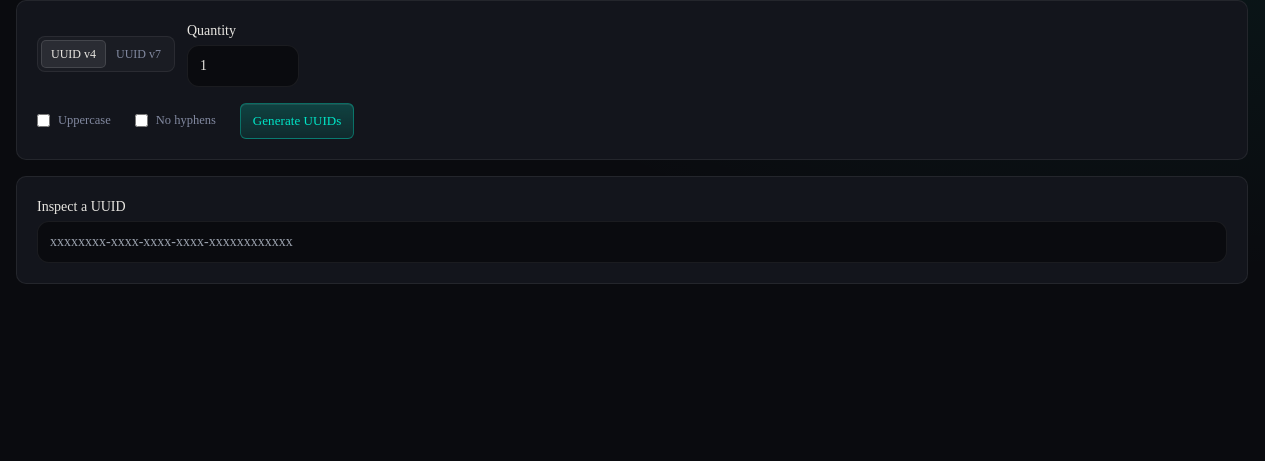
Test: UuidGeneratorClient › shows recognized variant names for standard and reserved UUIDs
Type "018bcfe5-6800-7000-8000-000000000000" into the field labelled "Inspect a UUID" at (632, 242), box [37,220,1227,262]
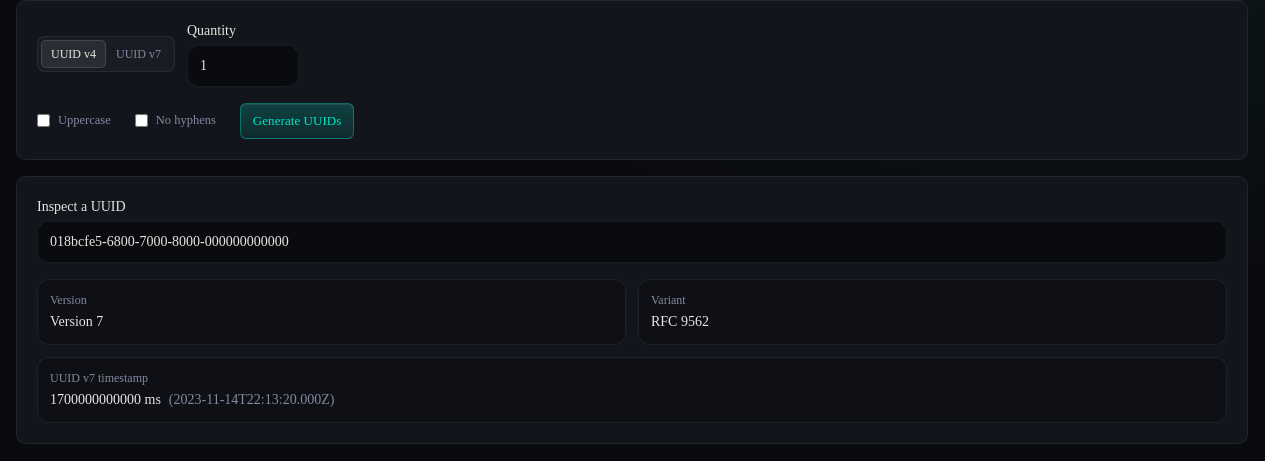
Check: the text "RFC 9562" is shown, box [651,314,709,328]
Replace the text in the field labelled "Inspect a UUID" with "00000000-0000-0000-0000-000000000000" at (632, 242), box [37,220,1227,262]
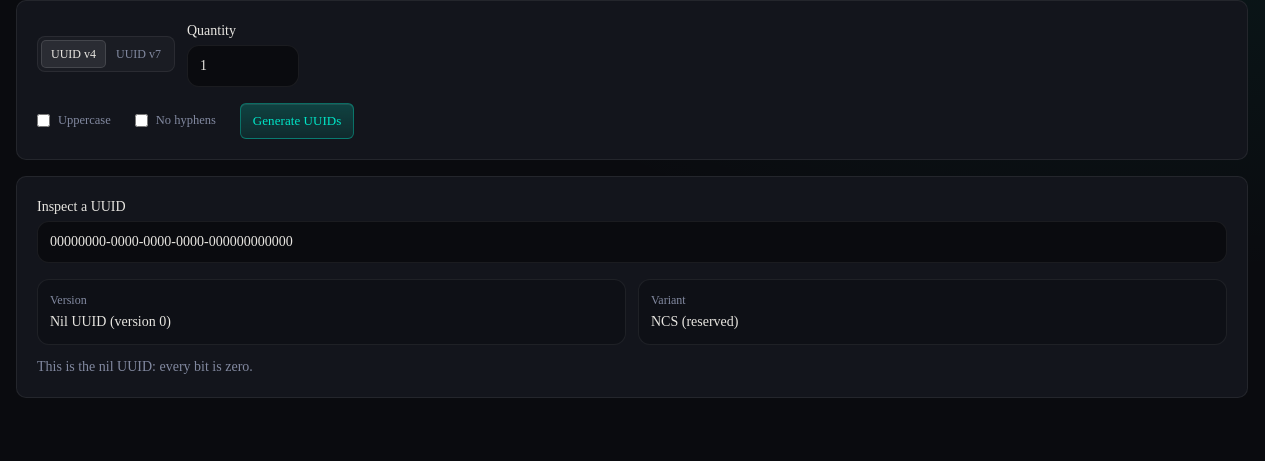
Check: the text "Nil UUID (version 0)" is shown, box [50,314,171,328]
Check: the text "NCS (reserved)" is shown, box [651,314,738,328]
Replace the text in the field labelled "Inspect a UUID" with "00000000-0000-4000-C000-000000000000" at (632, 242), box [37,220,1227,262]
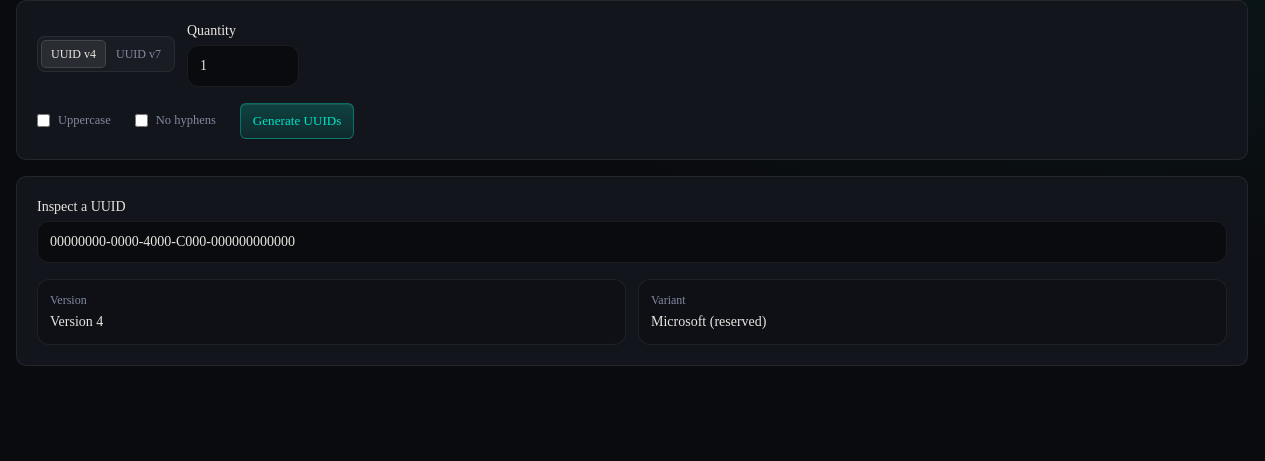
Check: the text "Microsoft (reserved)" is shown, box [651,314,766,328]
Replace the text in the field labelled "Inspect a UUID" with "00000000-0000-4000-E000-000000000000" at (632, 242), box [37,220,1227,262]
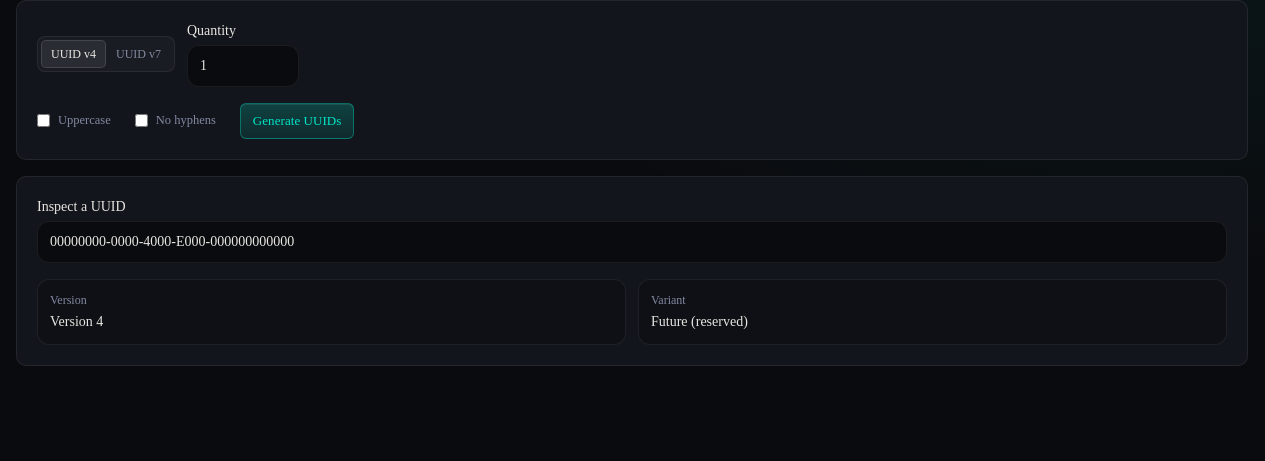
Check: the text "Future (reserved)" is shown, box [651,314,748,328]
